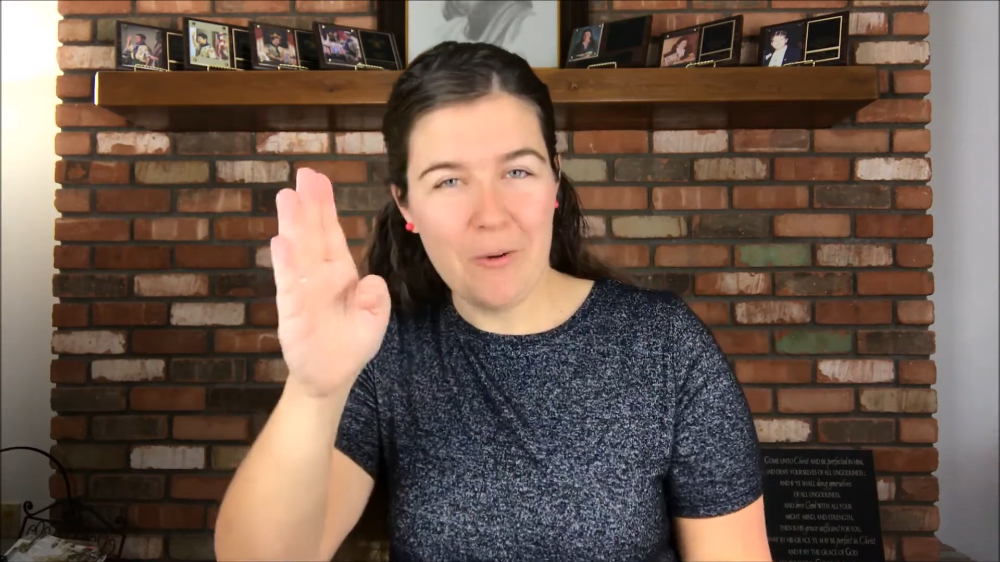hello: (263, 166, 392, 395)
